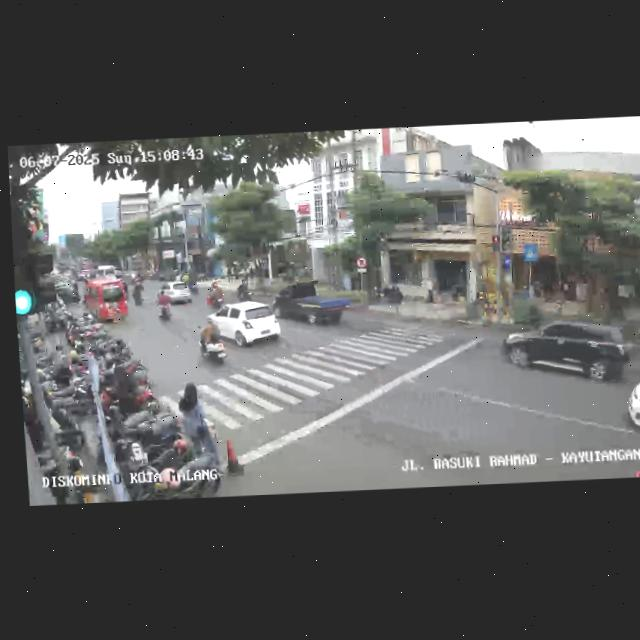car: (501, 313, 633, 388), (274, 278, 354, 329), (205, 299, 283, 350), (79, 277, 130, 326), (621, 369, 640, 438), (157, 280, 193, 307)
motorcycle: (195, 315, 228, 368), (154, 288, 174, 323), (206, 283, 224, 311), (236, 279, 250, 300), (132, 279, 143, 305)
person: (174, 380, 208, 449), (634, 443, 640, 477)
